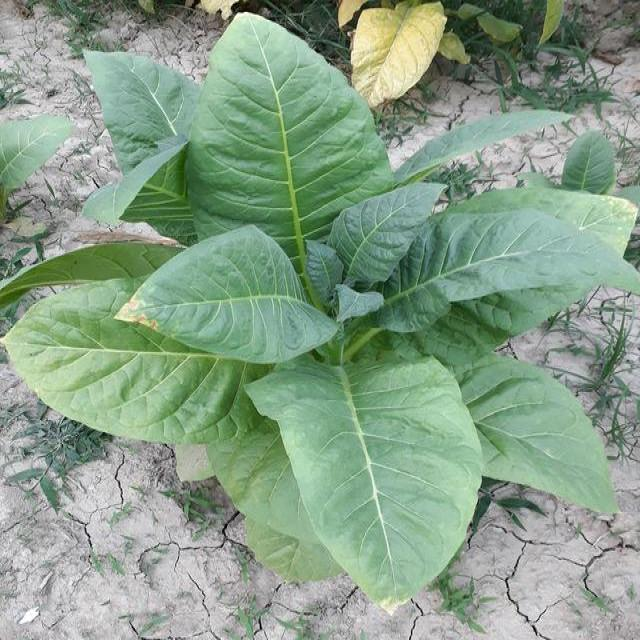crop: (3, 12, 639, 640)
